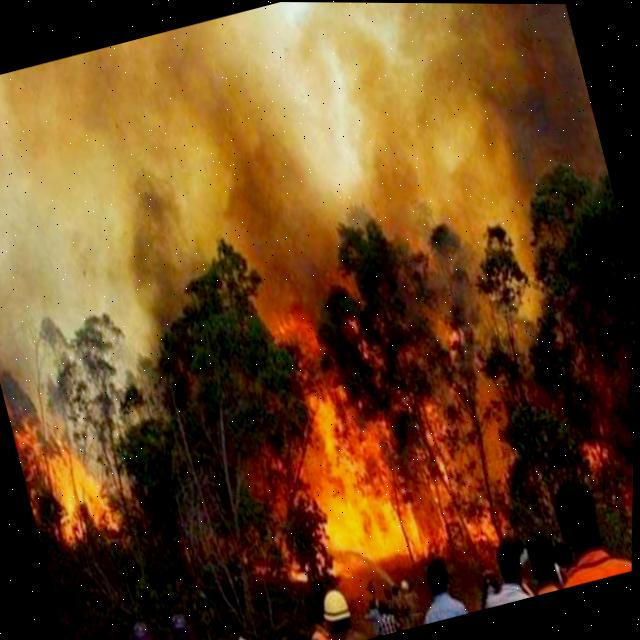fire: (295, 411, 448, 582), (32, 430, 117, 545), (292, 334, 350, 435)
smoke: (0, 2, 604, 313), (242, 227, 343, 323)
